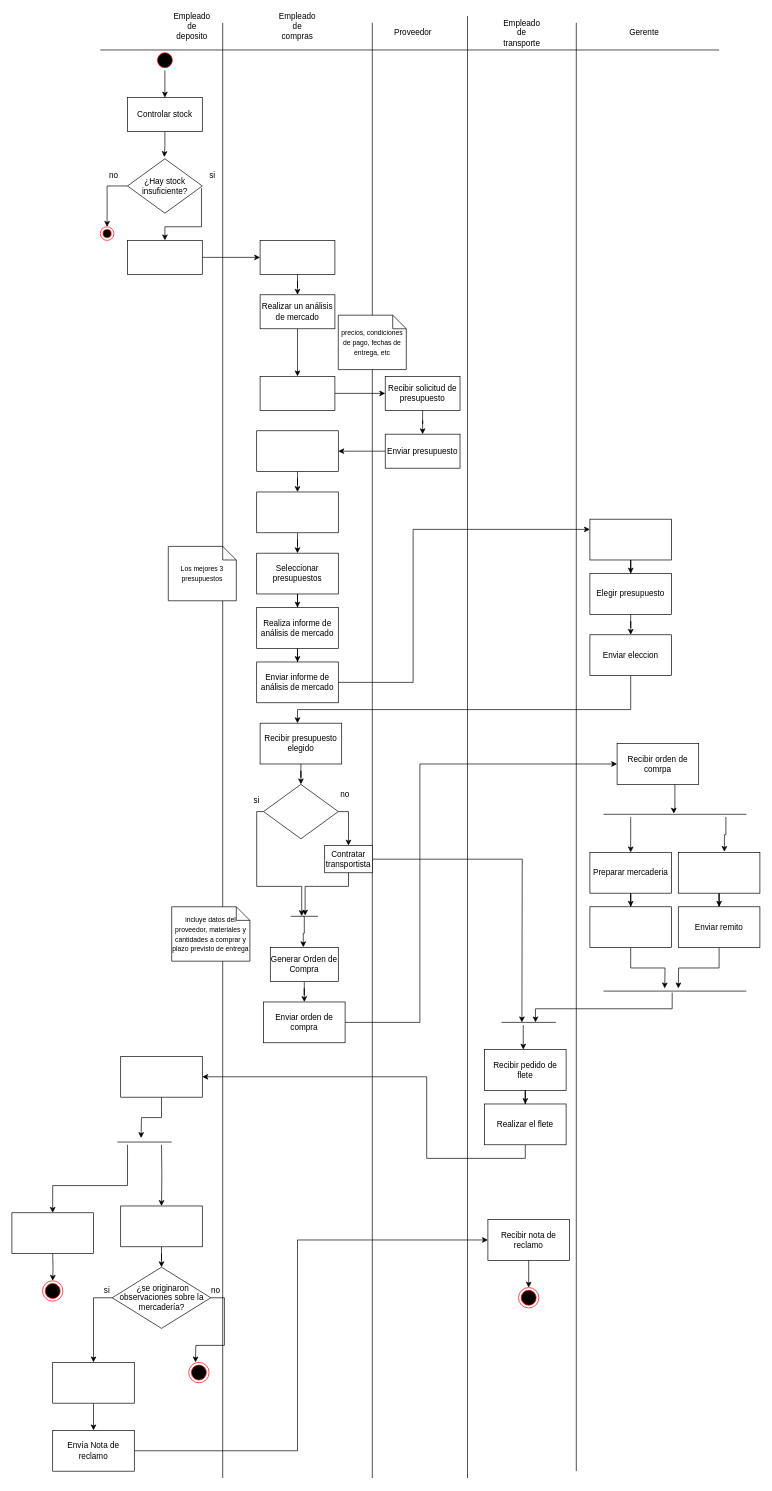
Some shapes in this 772 by 1491 pixel diagram are drawn without their labels. The centre of each missing label's shape, as x and y in pixels:
"Actualizar stock" belongs at [52,1233].
"Enviar mercaderia" belongs at [630,927].
"Generar remito" belongs at [719,872].
"Generar una Nota de Reclamo" belongs at [93,1382].
"Realiza un requerimiento de reposicion" belongs at [164,257].
"Recibir informe de análisis de mercado" belongs at [630,539].
"Recibir mercadería y registra remito" belongs at [161,1076].
"Recibir presupuesto" belongs at [297,451].
"Registrar el requerimiento de reposicion" belongs at [297,257].
"Registrar presupuesto" belongs at [297,512].
"Registrar remito" belongs at [161,1226].
"Solicitar un presupuesto" belongs at [297,393].
"¿ está incluido el gasto de flete?" belongs at [300,811].
